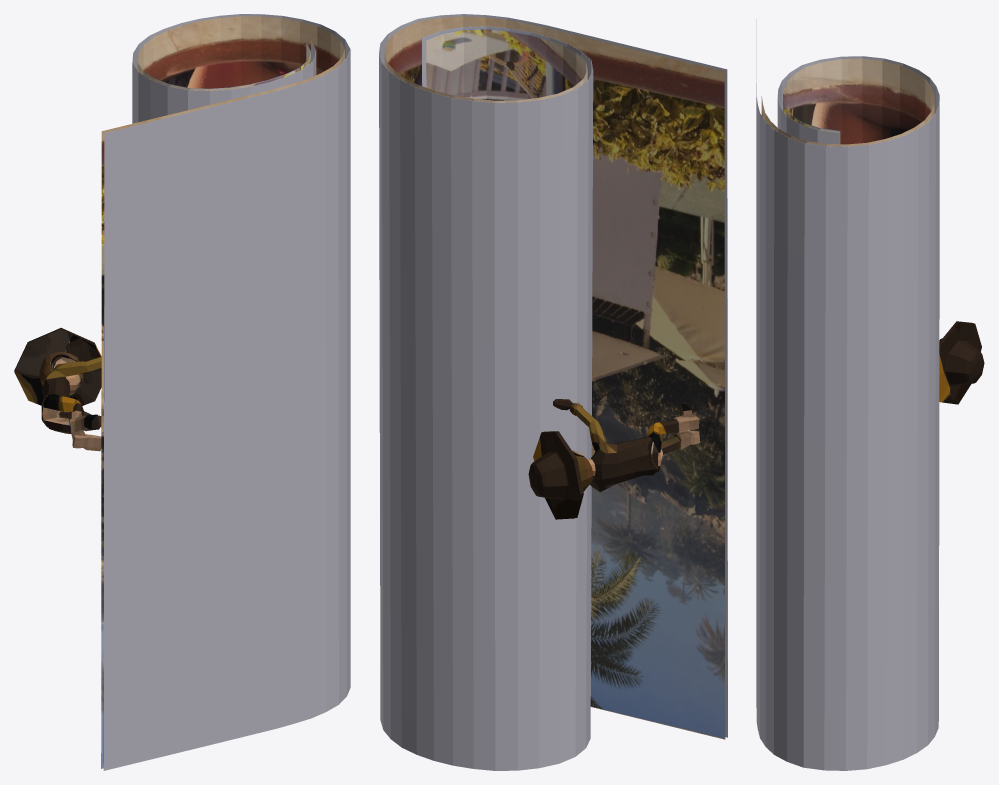
File: start_file2_000027.obj
3 renders of one model, left to right at view 1: azimuth 30°, elevation 25°; view 2: azimuth 150°, elevation 25°; view 3: azimuth 270°, elevation 25°, orthographic. The views are drawn at different scales.
Visible parts, largest first — view 1: Cube_Cube.001, Character_Cube; view 2: Cube_Cube.001, Character_Cube; view 3: Cube_Cube.001, Character_Cube.
Boxes of the visible parts, bbox=[...] form: Cube_Cube.001: bbox=[101, 14, 350, 770]; Character_Cube: bbox=[14, 328, 101, 451]; Cube_Cube.001: bbox=[379, 14, 727, 770]; Character_Cube: bbox=[528, 399, 700, 519]; Cube_Cube.001: bbox=[756, 19, 939, 770]; Character_Cube: bbox=[939, 321, 984, 404].
Bounding box in the file's own units: 0.7044 × 1.52 × 0.5044.
Materials: 2 (2 with a texture image).
